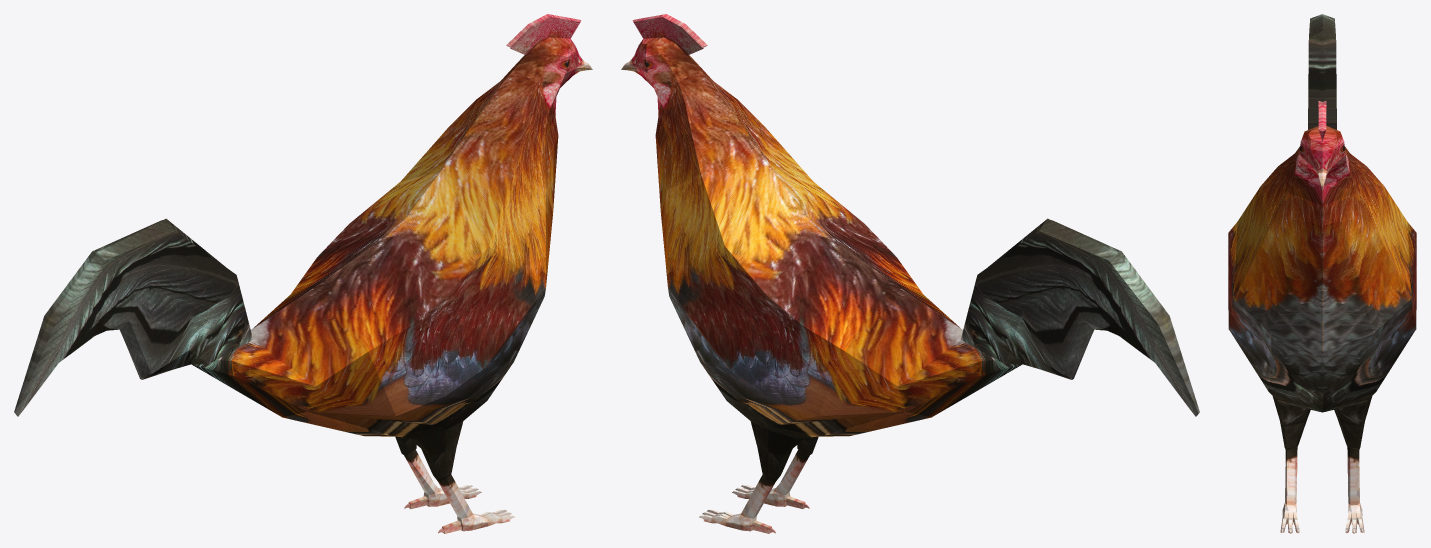
Rendered from redfowl.fbx.
3 views of the same model, side by side, from view 1: azimuth 30°, elevation 25°; view 2: azimuth 150°, elevation 25°; view 3: azimuth 270°, elevation 25° (orthographic). The views are drawn at different scales.
Visible parts, largest first — view 1: Cube; view 2: Cube; view 3: Cube.
Part boxes in pixels (left/top/right/bottom): Cube: left=14, top=14, right=592, bottom=533; Cube: left=621, top=14, right=1199, bottom=533; Cube: left=1228, top=14, right=1416, bottom=533.
Size of the model in its own units: 435 by 343 by 128.
1 material, 1 textured.
